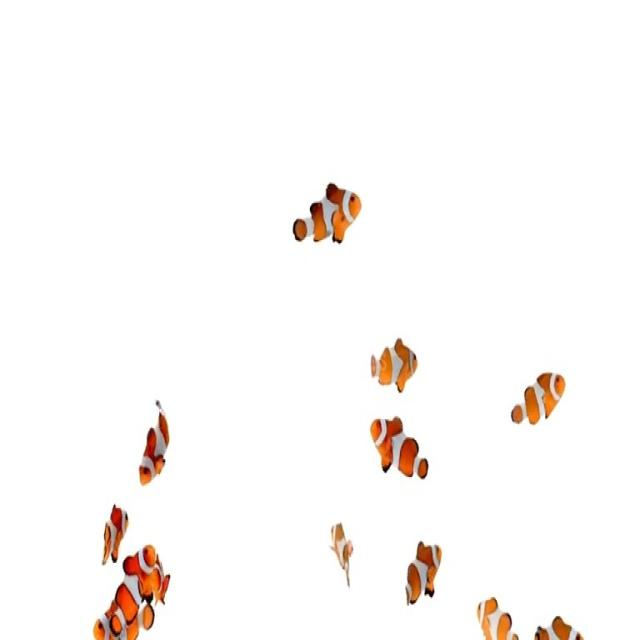fish: (352, 414, 445, 496), (283, 179, 366, 268), (122, 401, 190, 491), (360, 315, 426, 398), (393, 527, 448, 618), (508, 370, 575, 444), (317, 509, 365, 593), (117, 531, 151, 636), (98, 493, 138, 571), (471, 578, 521, 640), (530, 607, 586, 640)
